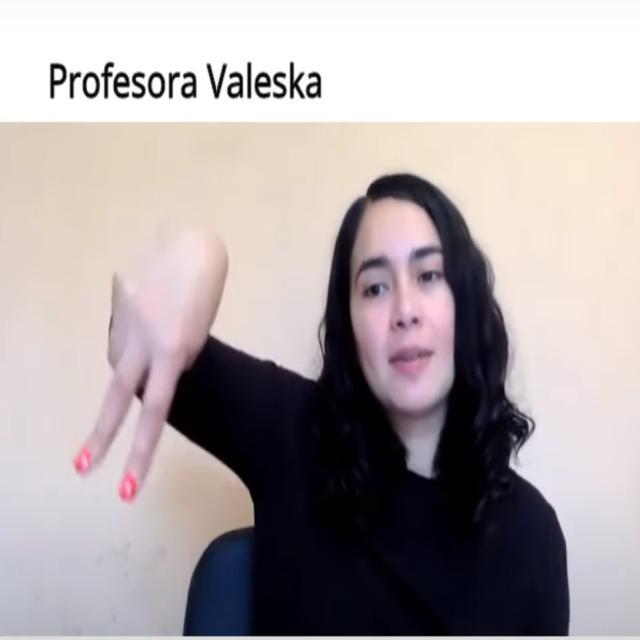EYE: (71, 216, 236, 512)
